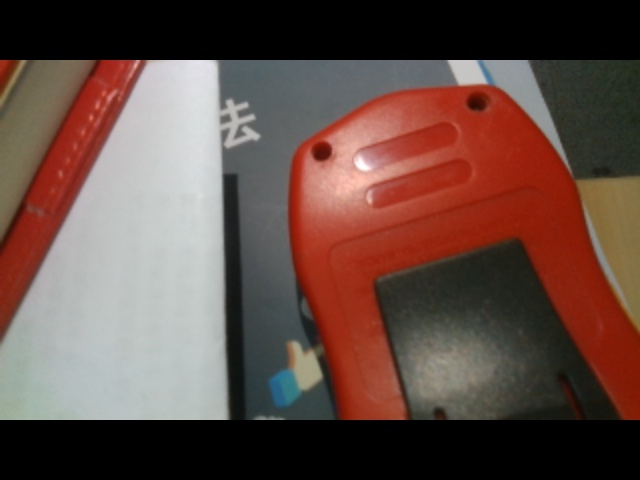Screw holes: (464, 90, 495, 113), (308, 139, 337, 161)
